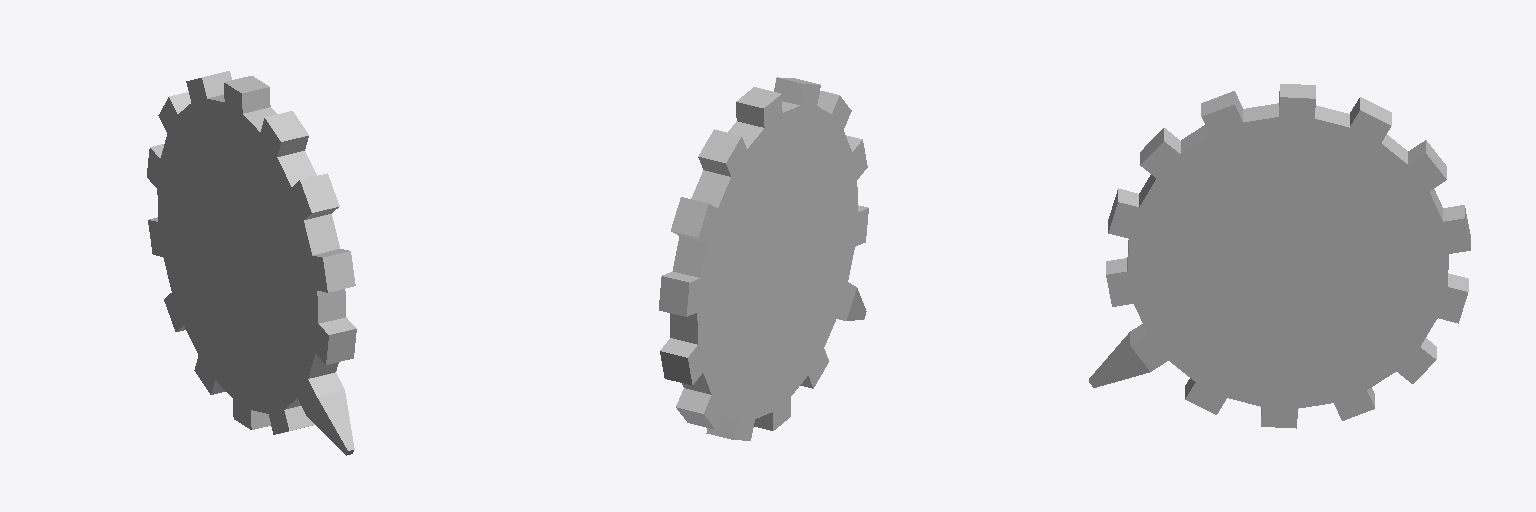
The model's file is gear_000008.obj.
3 renders of one model, left to right at view 1: azimuth 30°, elevation 25°; view 2: azimuth 150°, elevation 25°; view 3: azimuth 270°, elevation 25°, orthographic.
Parts seen in each view (by area): view 1: gear_Cylinder.001; view 2: gear_Cylinder.001; view 3: gear_Cylinder.001.
Part boxes in pixels (bbox=[...]): gear_Cylinder.001: bbox=[147, 71, 356, 455]; gear_Cylinder.001: bbox=[659, 77, 868, 440]; gear_Cylinder.001: bbox=[1089, 84, 1470, 428].
Bounding box in the file's own units: 0.1 × 1.13 × 1.18.